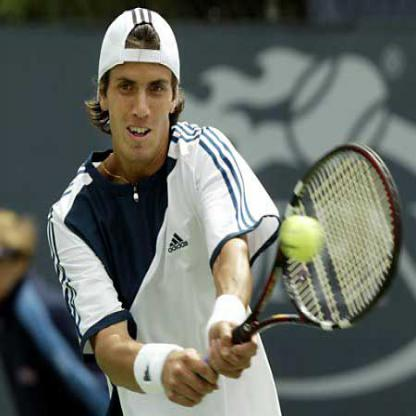face: (107, 10, 175, 163)
